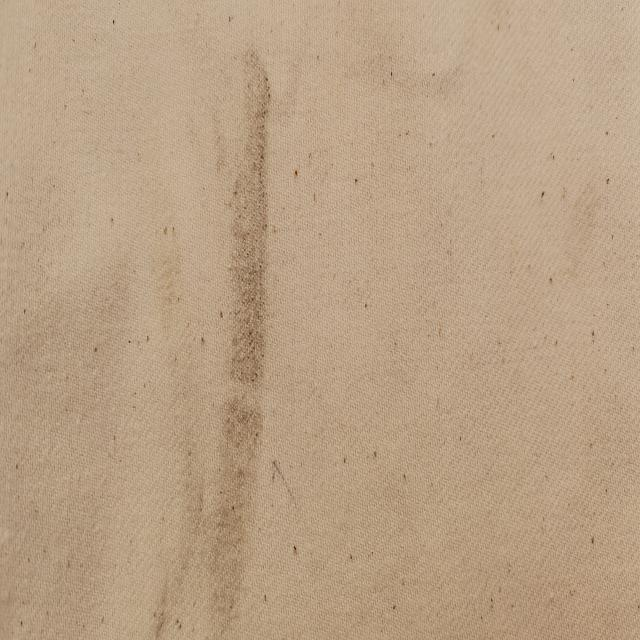taaaches: (194, 60, 312, 627), (145, 583, 186, 640)
